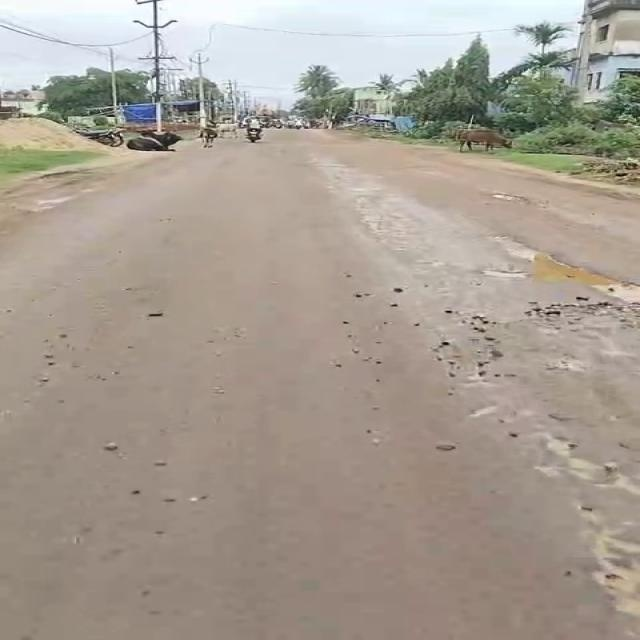pothole: (540, 439, 625, 485), (596, 537, 640, 610), (570, 271, 635, 303), (494, 235, 556, 261), (360, 213, 404, 246), (475, 190, 531, 206), (462, 403, 506, 420), (484, 266, 540, 279)
